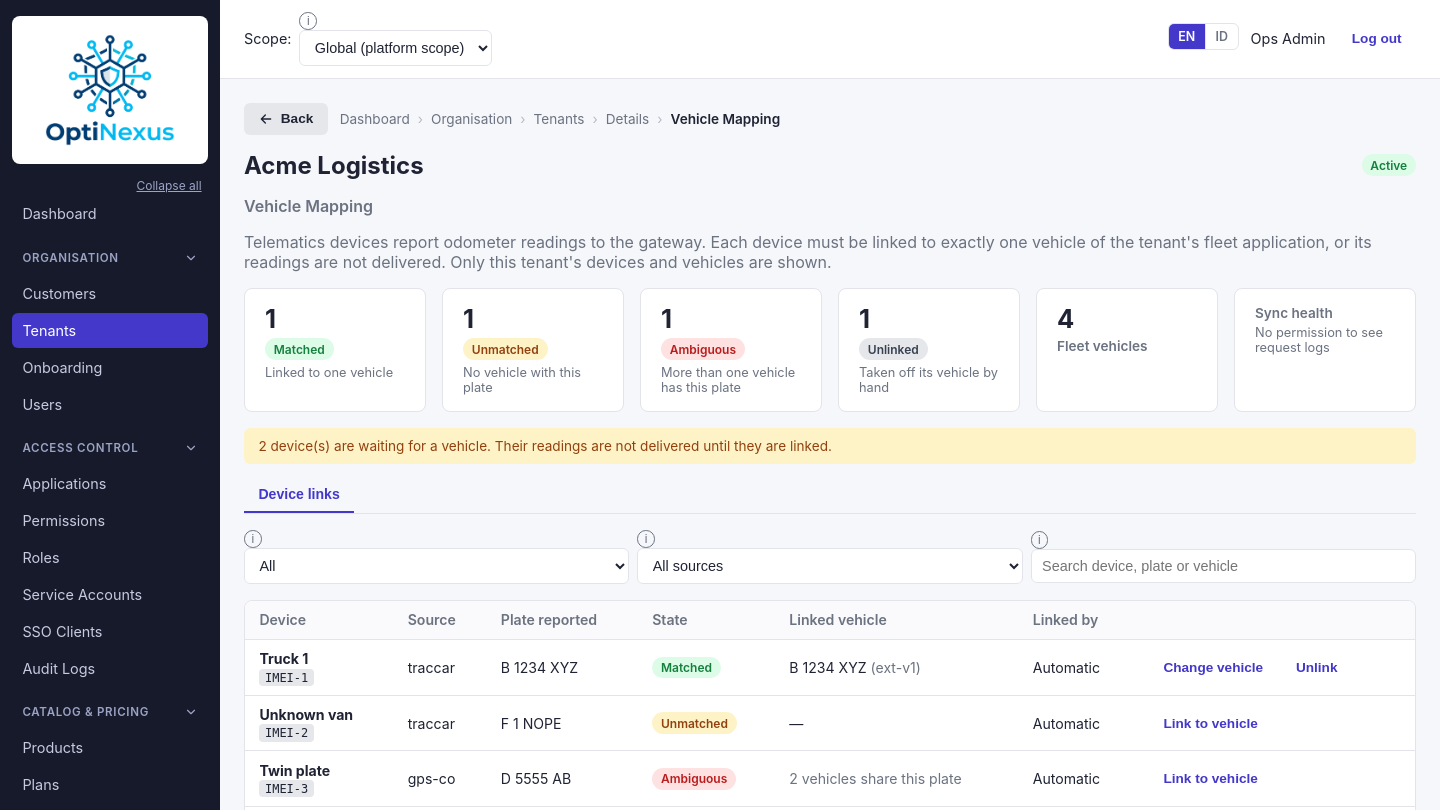
Scenario: vehicle mapping page › links a device by hand: the picker puts the vehicles with the reported plate first, and the PUT carries only the vehicle id
Step 1. Click the button "Link to vehicle" in the row of "Twin plate" → x=1211, y=779, box left=1149, top=763, right=1272, bottom=794
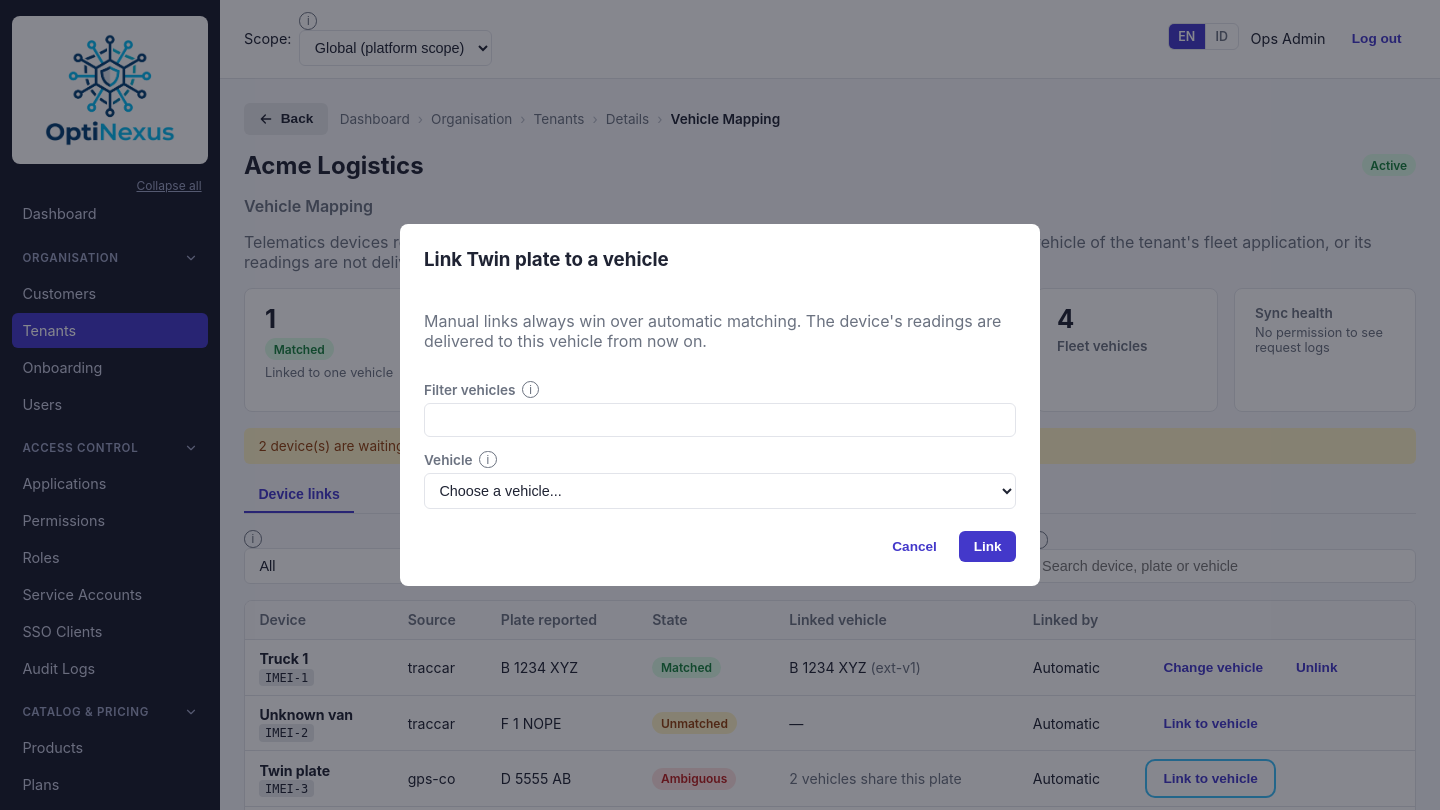
Step 2. Click the button "Link" → x=988, y=546, box left=959, top=531, right=1016, bottom=562
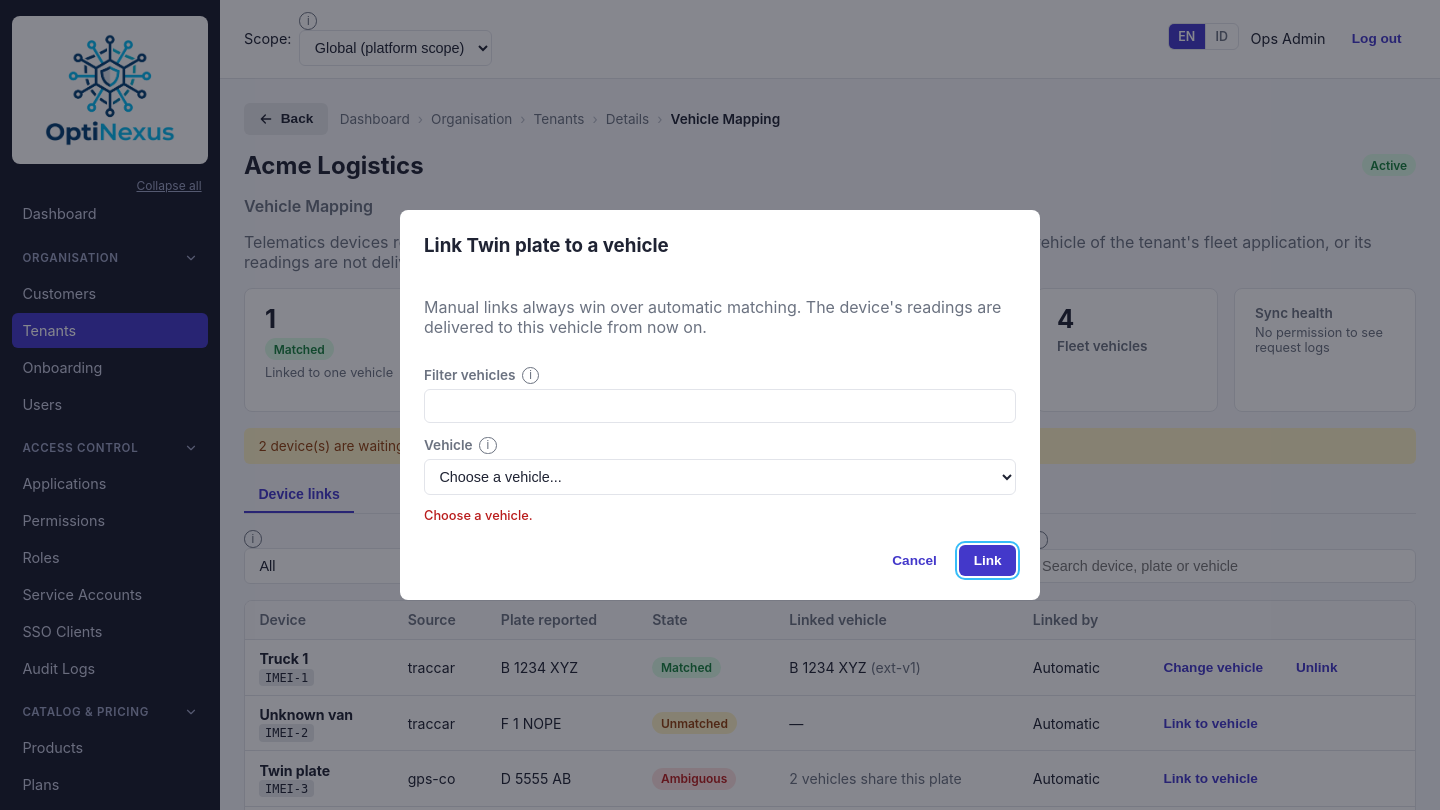
Expected: the text "Choose a vehicle." is shown, left=424, top=508, right=533, bottom=524
Step 3. Select "D-5555-AB (ext-v3)" in the dropdown labelled "Vehicle" → x=720, y=477, box left=424, top=459, right=1016, bottom=495
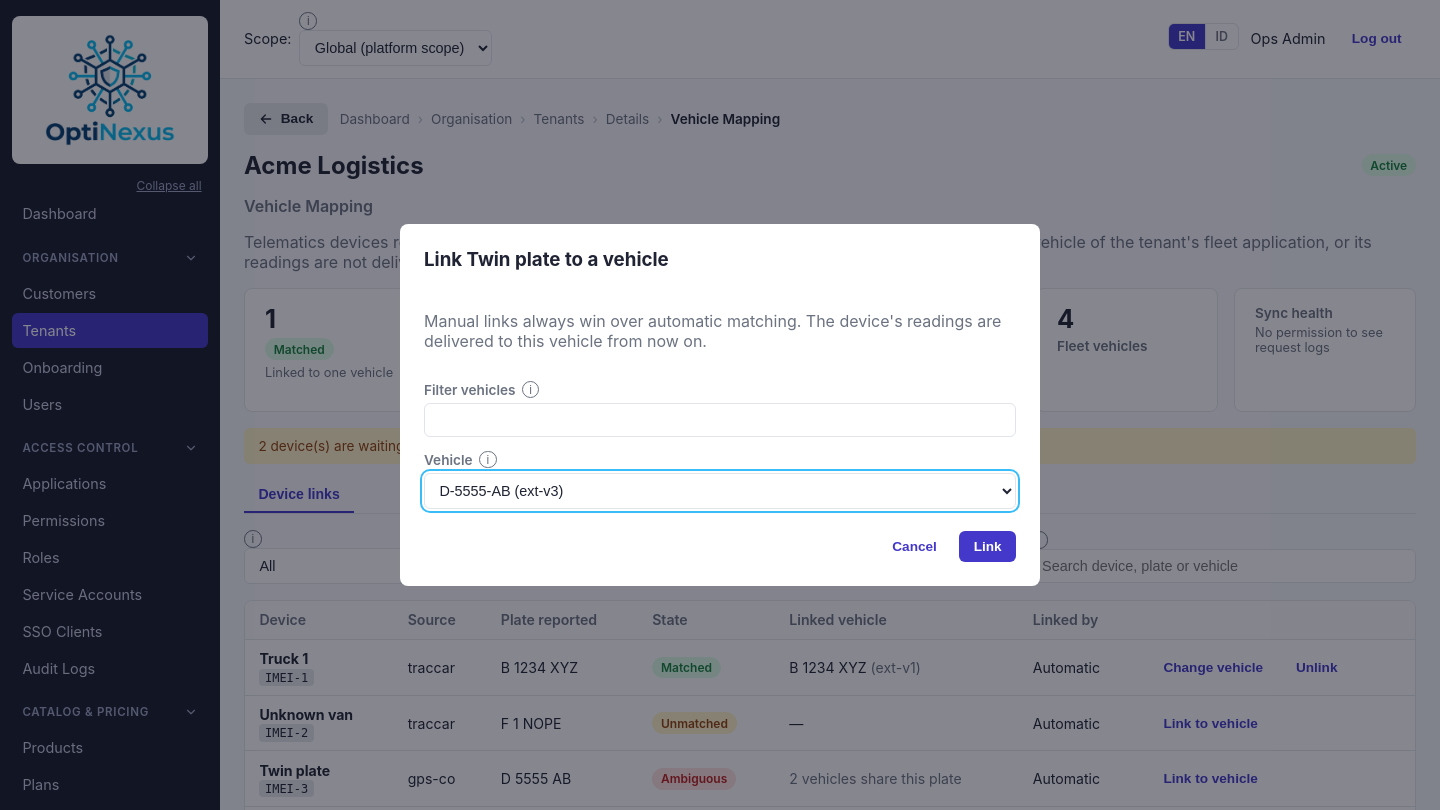
Step 4. Click the button "Link" → x=988, y=546, box left=959, top=531, right=1016, bottom=562
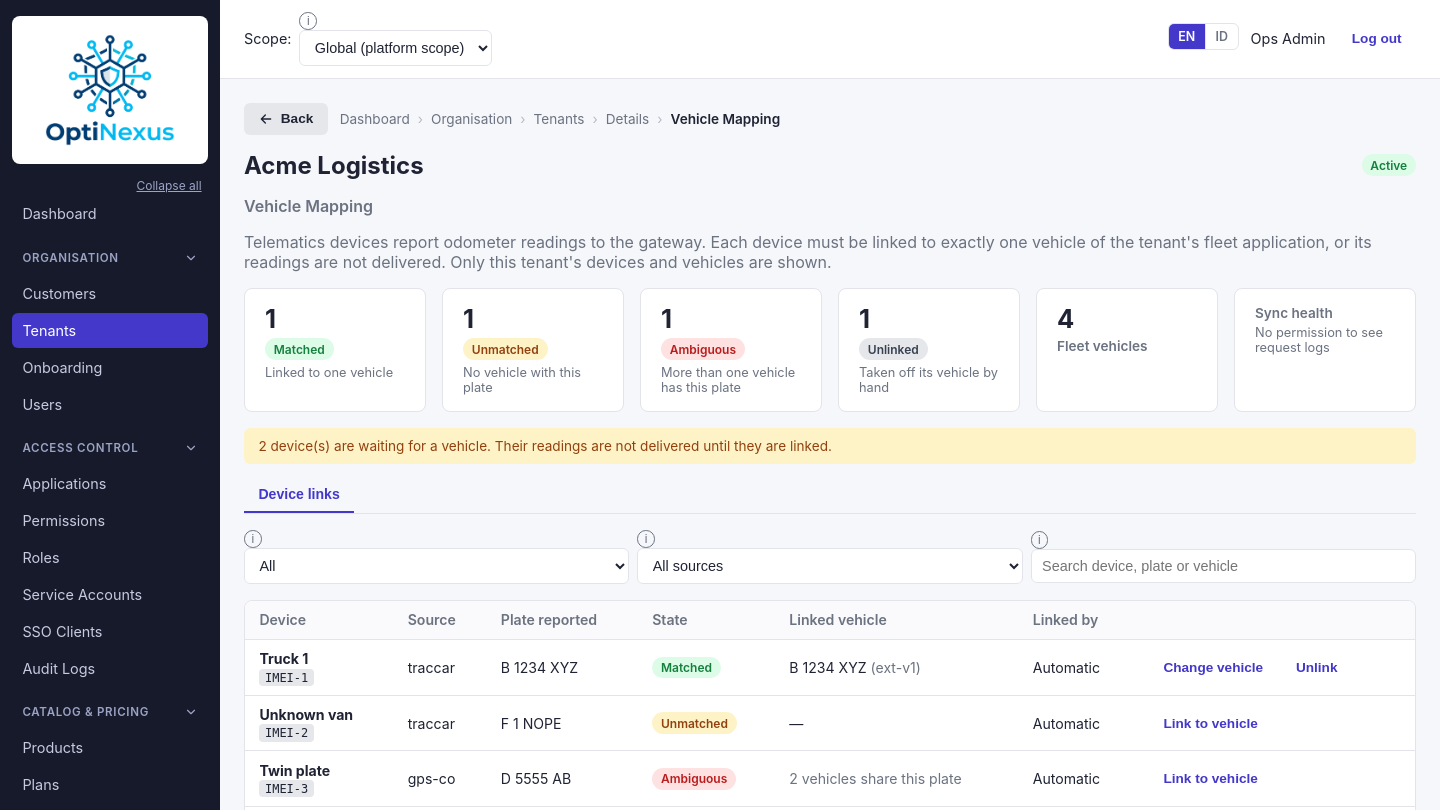
Expected: the dialog is gone
